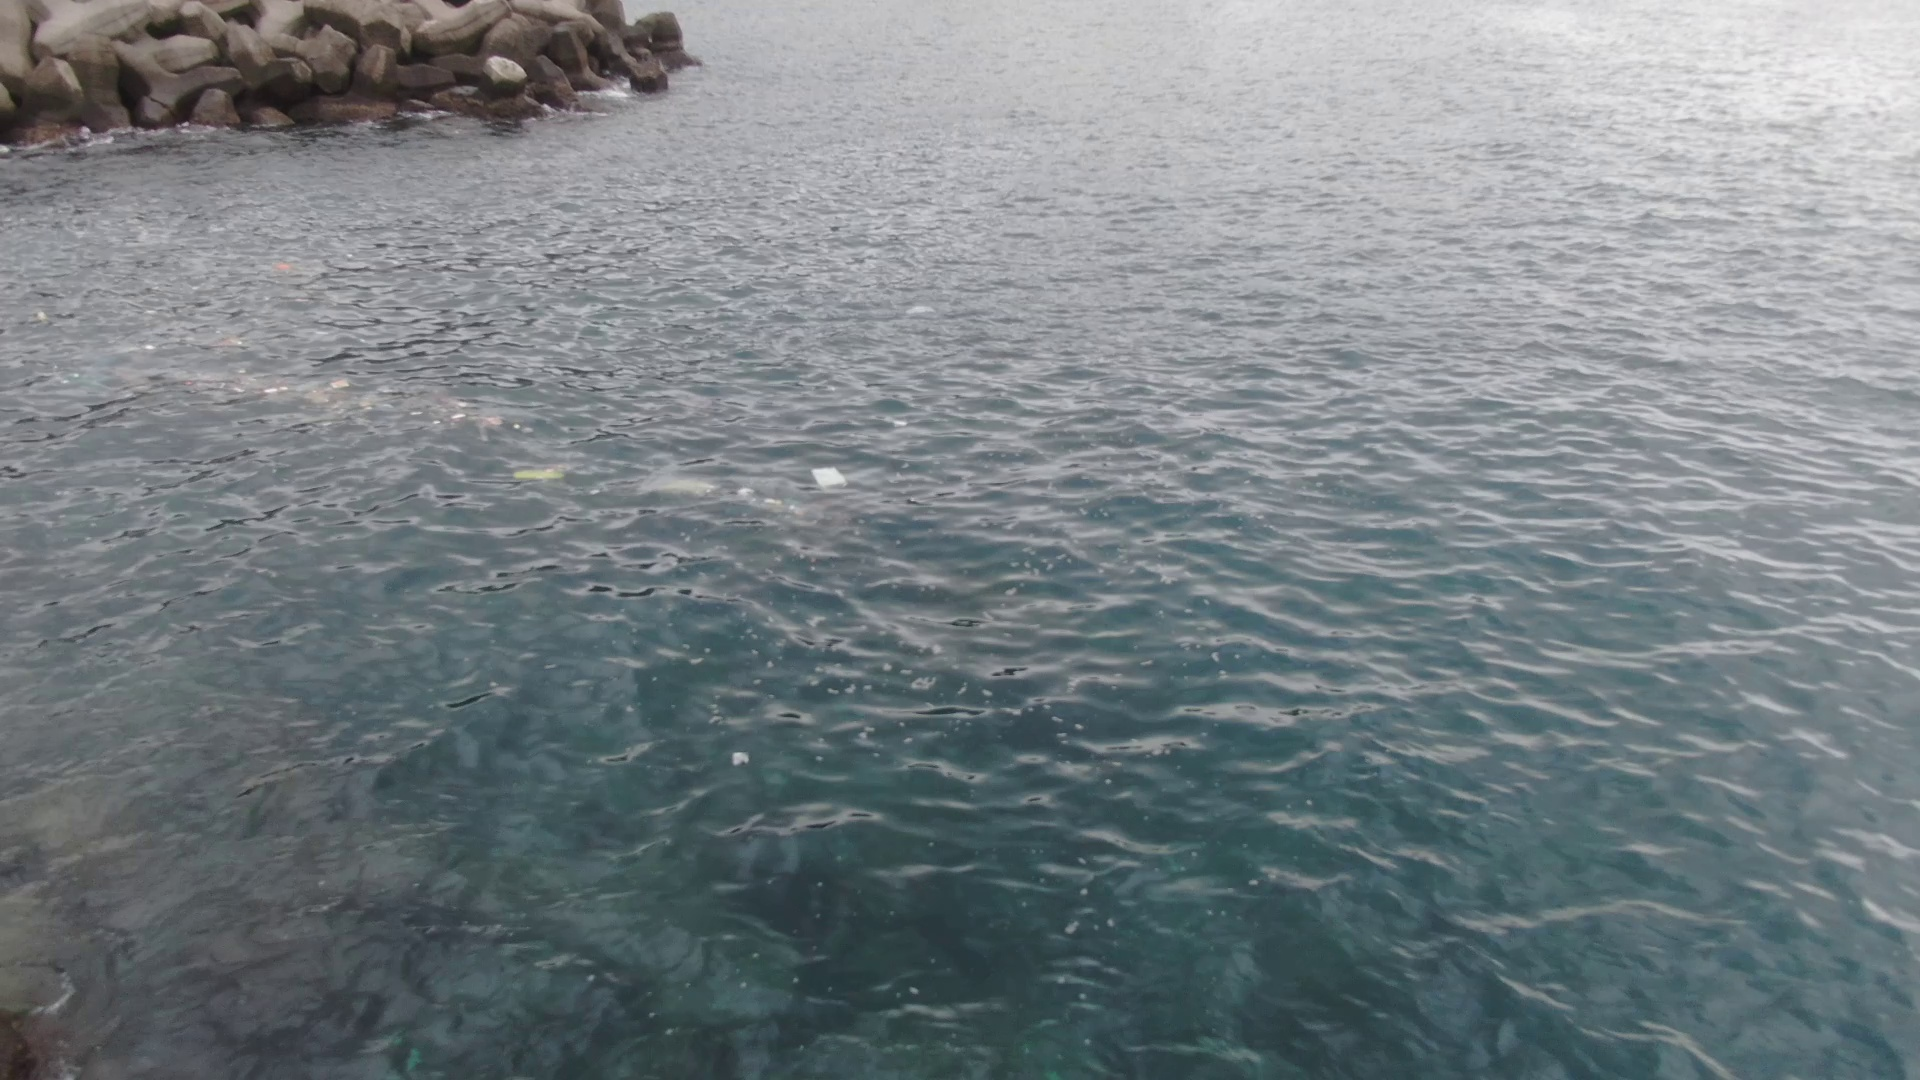garbage: (504, 462, 568, 487), (807, 460, 853, 495)
